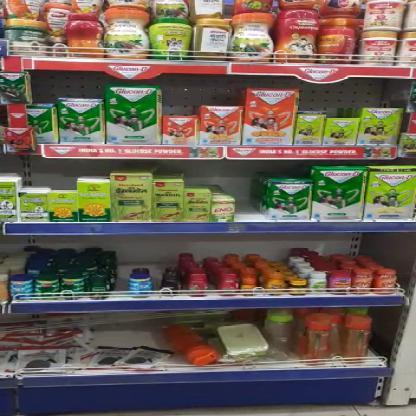Glucon D Nimbu Pani 1-KG: (362, 168, 414, 216), (360, 107, 403, 144)
Glucon D Regular 1-KG: (103, 90, 154, 143), (310, 168, 360, 220), (57, 101, 97, 140)
Glucon D Tangy orange 1-KG: (245, 90, 294, 145)
